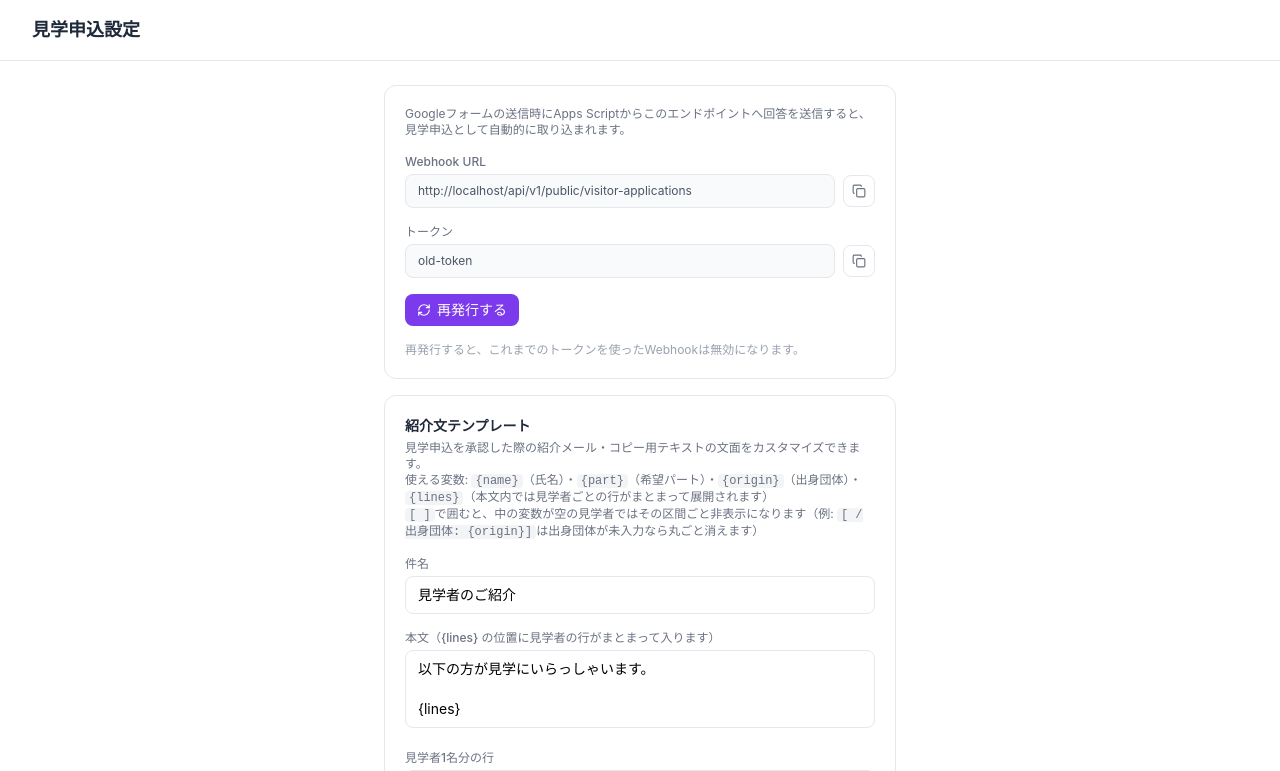
VisitorWebhookPage › 再発行に失敗したあと確認をキャンセルすると、エラーは画面に残らない
expect the 2nd field showing "old-token" is shown: met, box [405,244,835,278]
Click the button "再発行する".
click(462, 310)  # box [405,294,519,326]
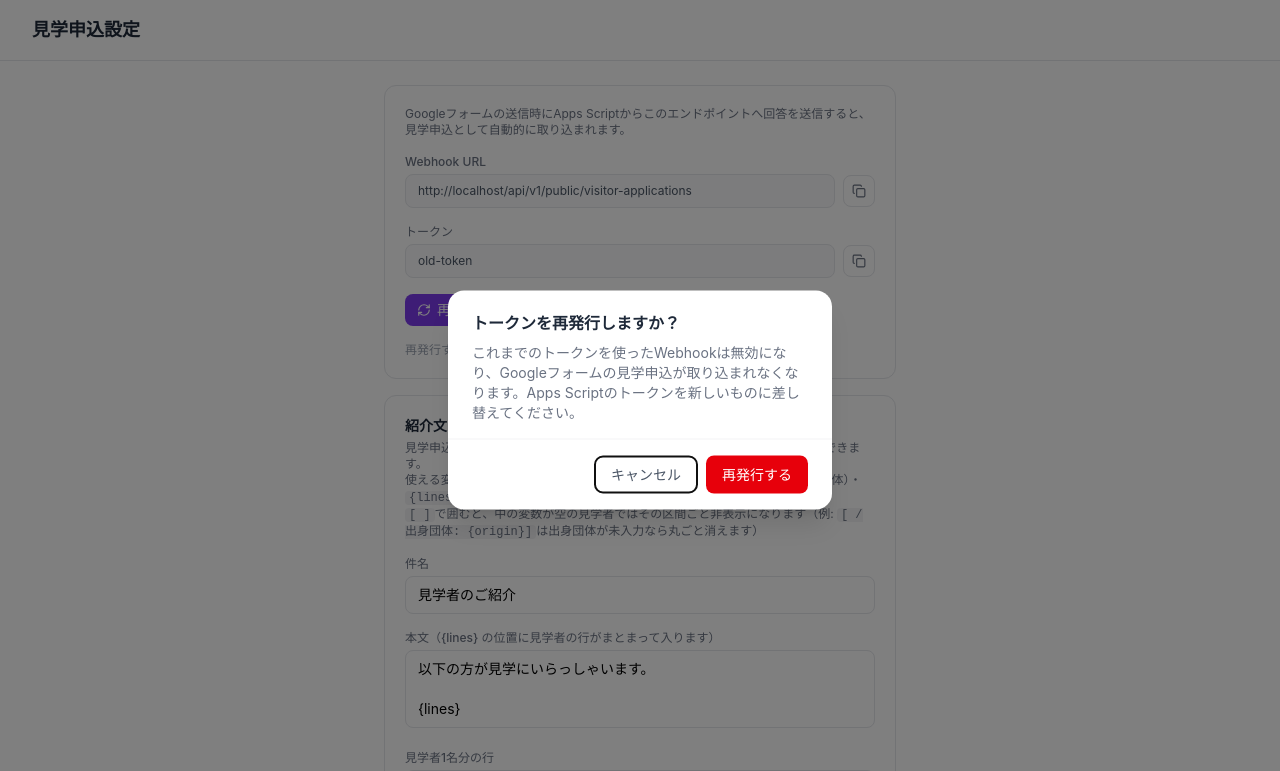
Click the button "再発行する".
click(757, 474)  # box [706,456,808,494]
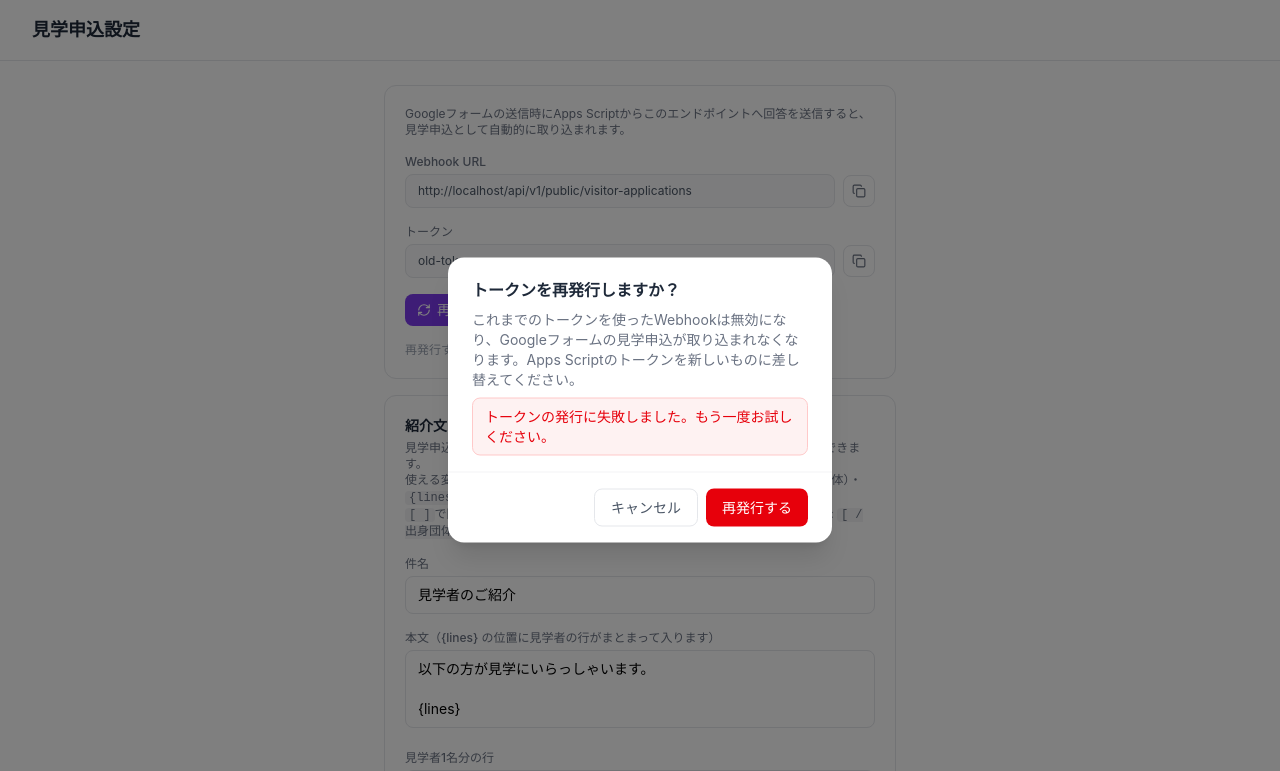
expect the message "トークンの発行に失敗しました。もう一度お試しください。" is shown: met, box [472,398,808,456]
Click the button "キャンセル".
click(646, 508)  # box [594,488,698,526]
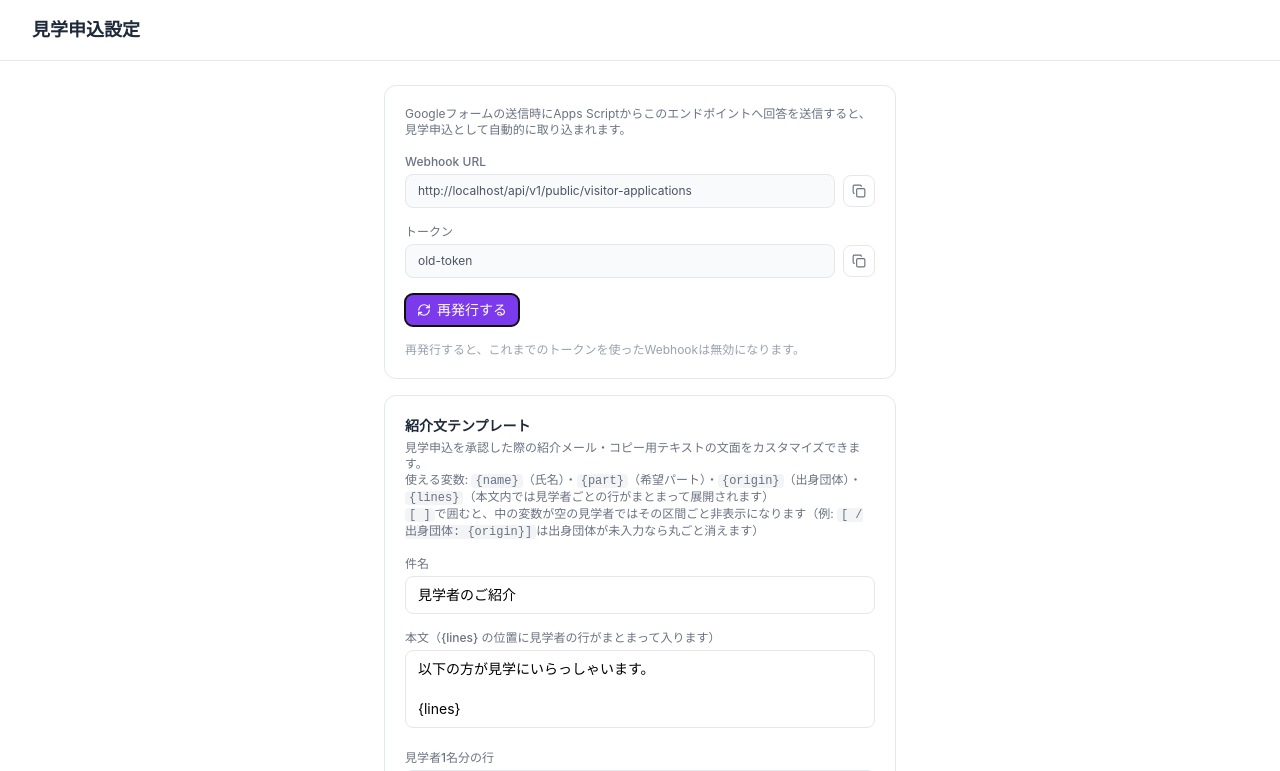
expect the text "トークンの発行に失敗しました。もう一度お試しください。" is gone: met
